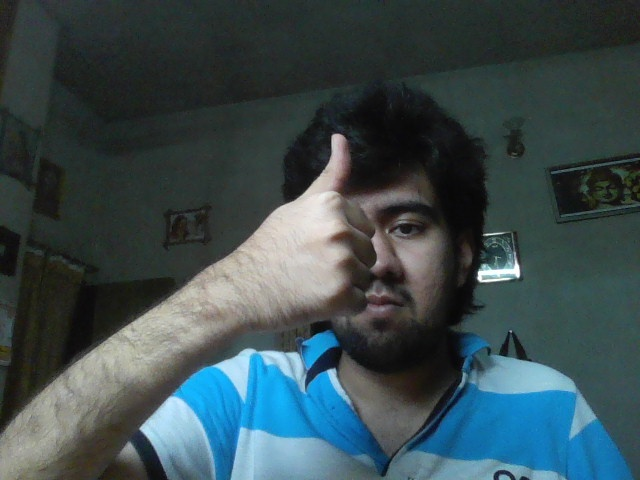Ok: (246, 133, 378, 330)
